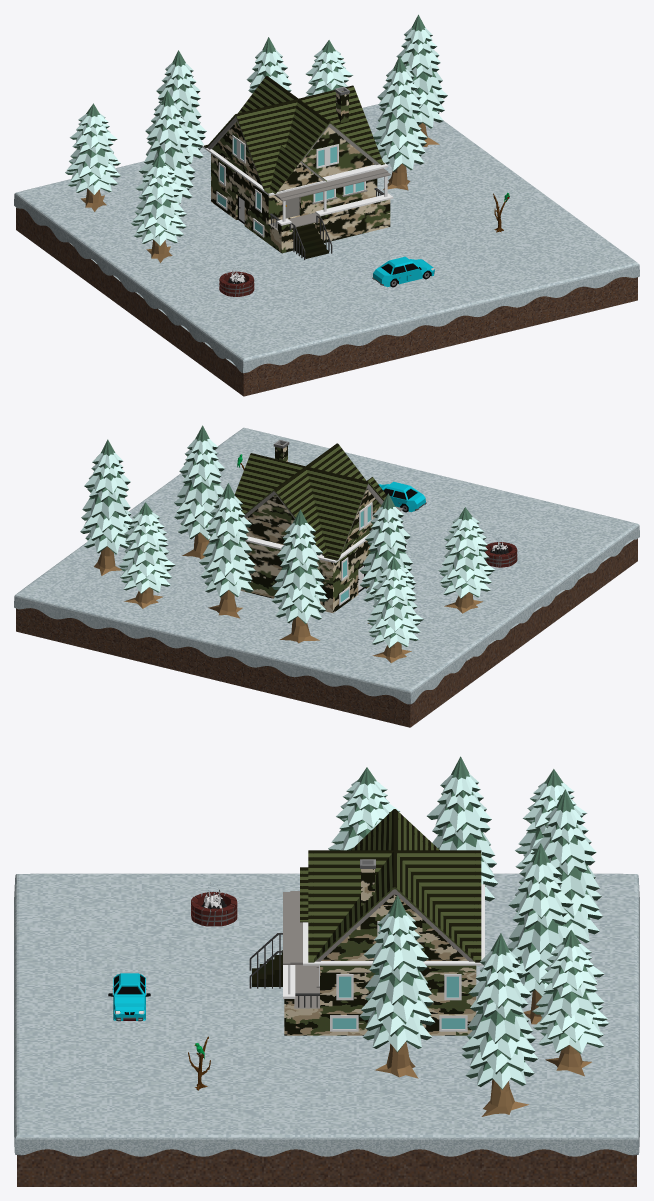
3 views of the same model, one above another, from view 1: azimuth 30°, elevation 25°; view 2: azimuth 150°, elevation 25°; view 3: azimuth 270°, elevation 25° (orthographic). The views are drawn at different scales.
Parts seen in each view (by area): view 1: Cube.003, Cube.002, VEHICLES_CAR, OBJRANDOM_CAMPFIRE; view 2: Cube.003, Cube.002, VEHICLES_CAR, OBJRANDOM_CAMPFIRE; view 3: Cube.003, Cube.002, VEHICLES_CAR, OBJRANDOM_CAMPFIRE.
Part boxes in pixels (bbox=[...]): Cube.003: bbox=[14, 14, 639, 396]; Cube.002: bbox=[202, 76, 393, 259]; VEHICLES_CAR: bbox=[372, 256, 434, 287]; OBJRANDOM_CAMPFIRE: bbox=[219, 270, 254, 296]; Cube.003: bbox=[14, 425, 639, 727]; Cube.002: bbox=[234, 440, 405, 612]; VEHICLES_CAR: bbox=[378, 481, 426, 512]; OBJRANDOM_CAMPFIRE: bbox=[485, 541, 517, 567]; Cube.003: bbox=[14, 756, 639, 1186]; Cube.002: bbox=[249, 809, 484, 1035]; VEHICLES_CAR: bbox=[108, 973, 150, 1021]; OBJRANDOM_CAMPFIRE: bbox=[191, 889, 237, 926].
Size of the model in its own units: 4040 by 1692 by 4040.
Materials: 36 (5 with a texture image).
